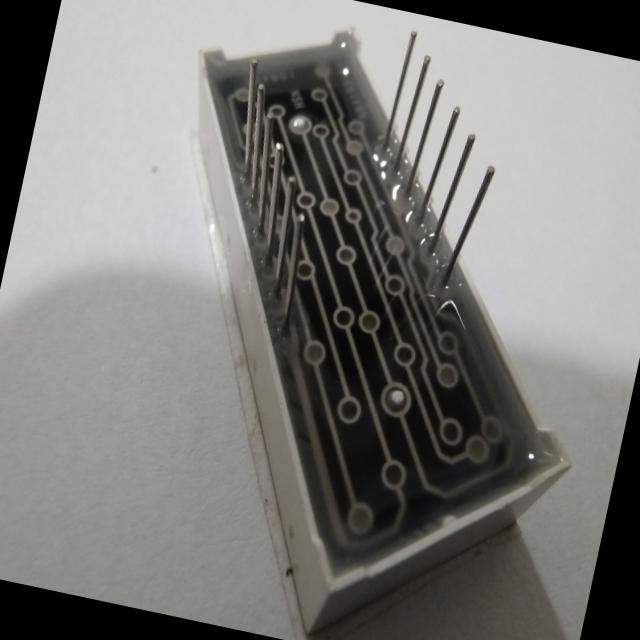7_segments_4_digits: (72, 0, 640, 640)
